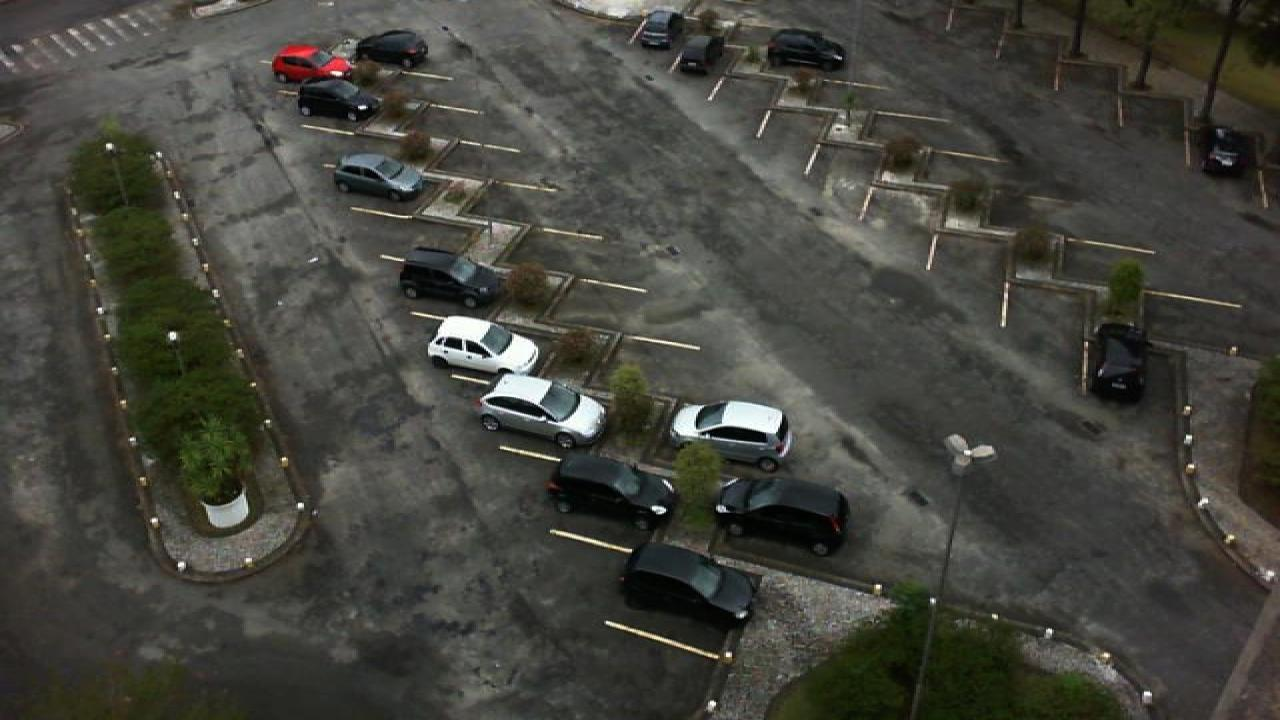Car: (616, 540, 764, 628), (542, 452, 682, 534), (712, 475, 852, 557), (474, 371, 610, 449), (668, 399, 796, 472), (422, 315, 542, 383), (396, 248, 510, 310), (1088, 320, 1154, 404), (330, 152, 426, 202), (294, 78, 382, 124), (762, 27, 850, 72), (270, 43, 356, 86), (352, 29, 430, 71), (1200, 124, 1260, 178), (670, 25, 728, 75), (636, 9, 682, 49)
